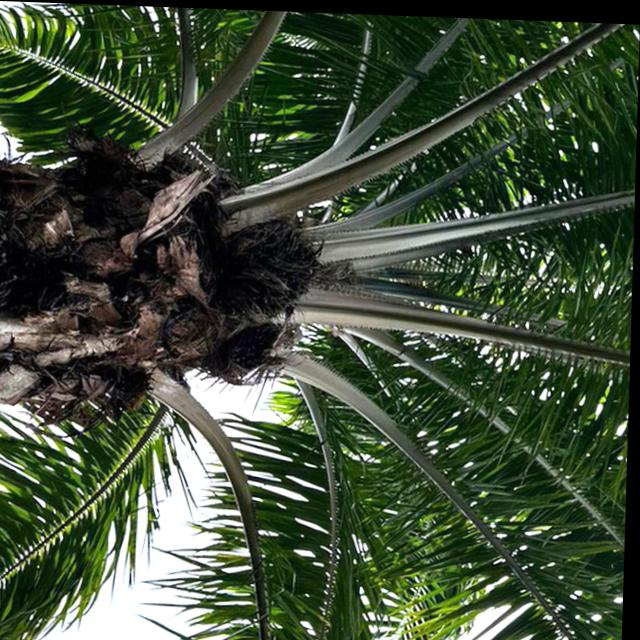almost: (208, 211, 329, 322), (198, 310, 318, 389)
